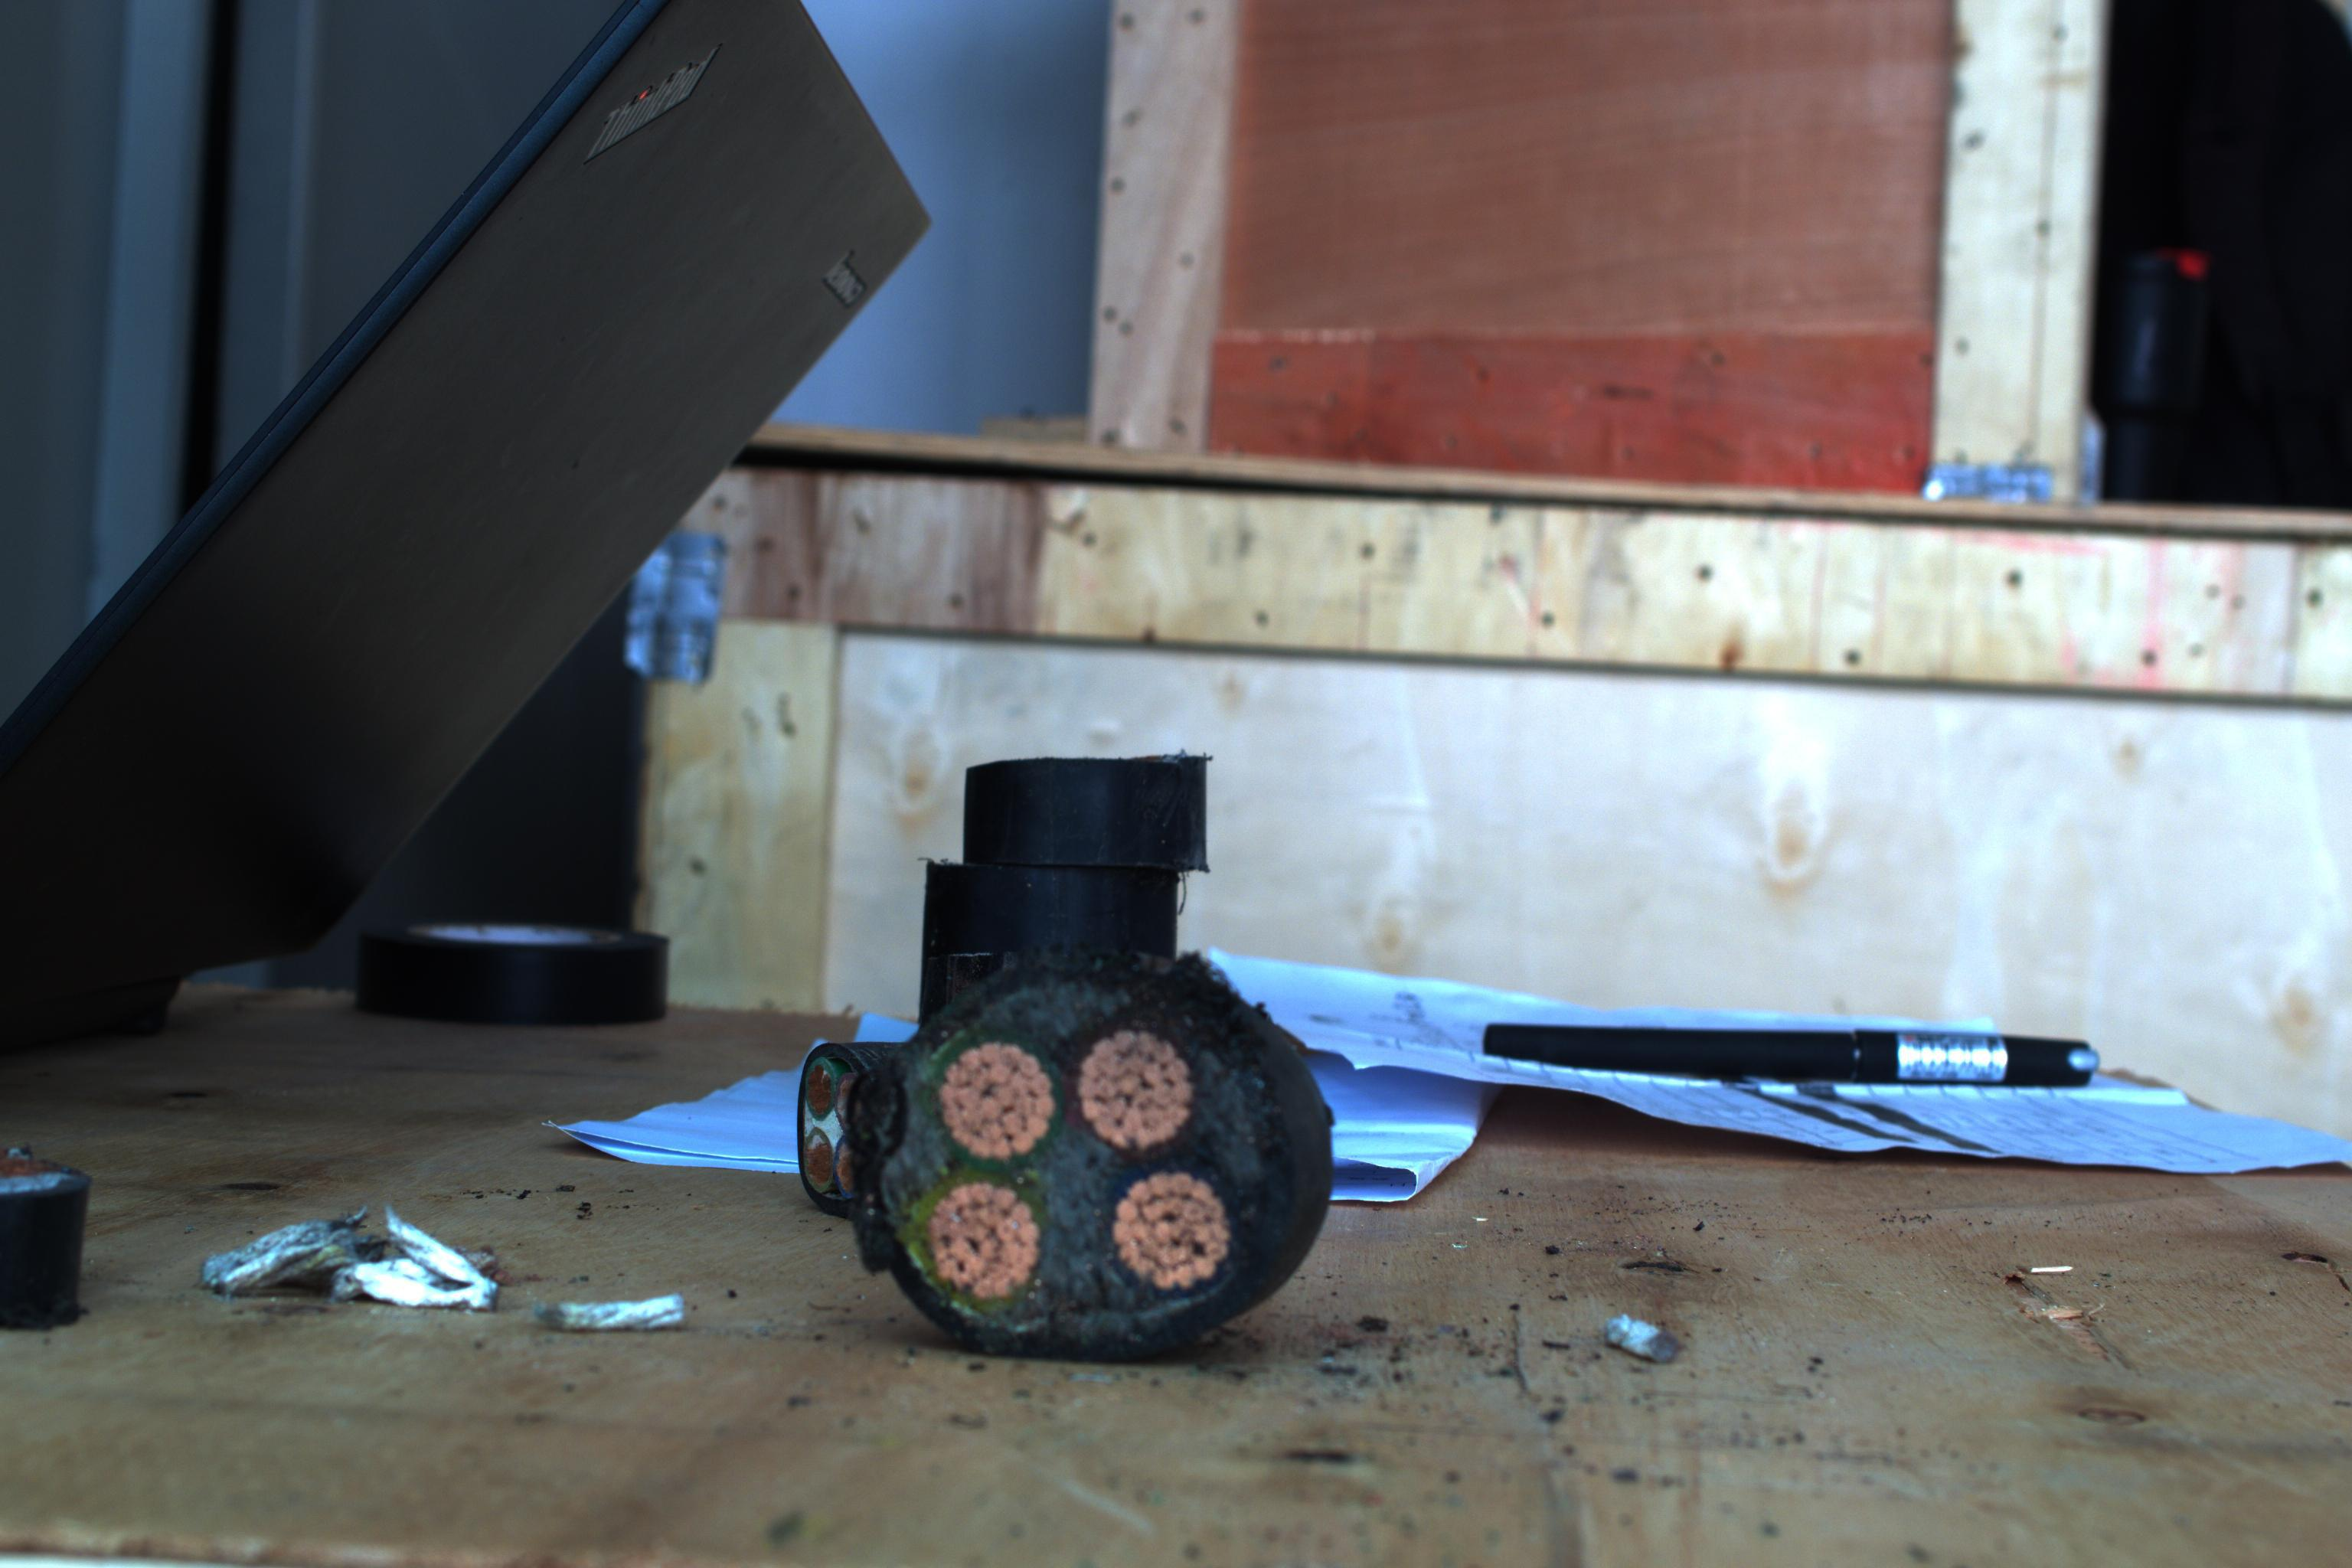YJV_0.6_1kV_4x120: (836, 961, 1277, 1340)
